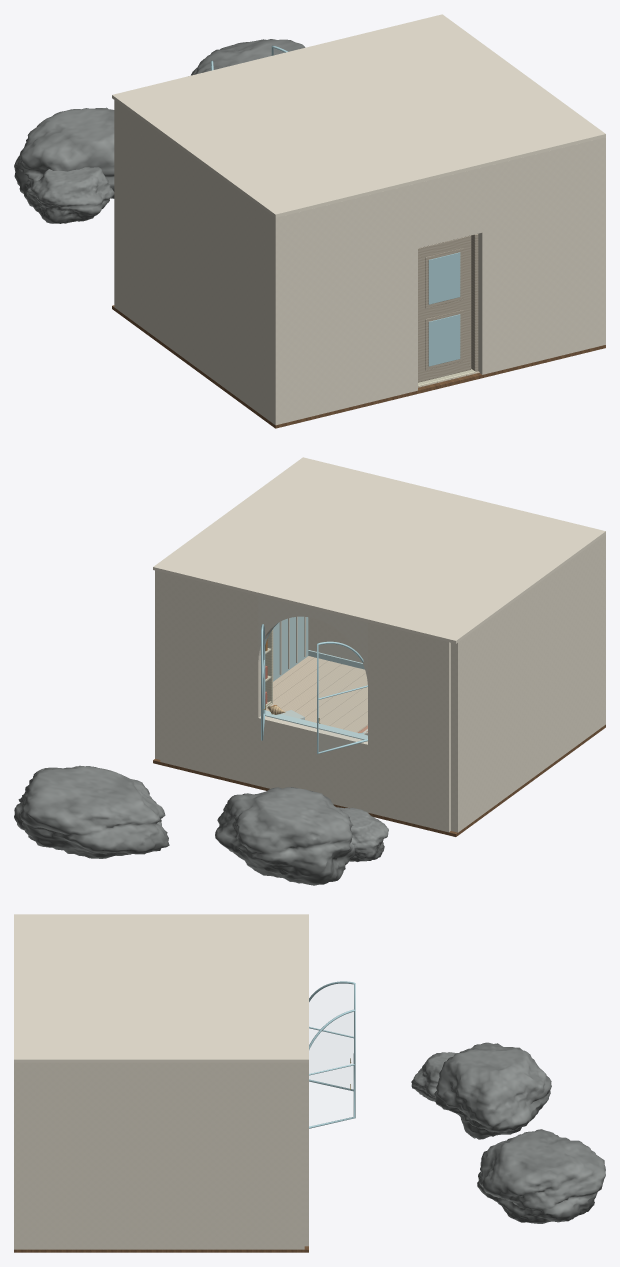
The model's file is beachfront.high.glb.
3 views of the same model, one above another, from view 1: azimuth 30°, elevation 25°; view 2: azimuth 150°, elevation 25°; view 3: azimuth 270°, elevation 25° (orthographic). The views are drawn at different scales.
Parts seen in each view (by area): view 1: Room_Ceiling, Room_Wall_L, Room_Wall_F_L, Room_Wall_F_R, Beachfront_ShoreRock_0, Room_Wall_F_Top, Beachfront_ShoreRock_2, Door_Leaf, Room_Floor, Beachfront_ShoreRock_1, Door_Field_U_Inside, Door_Field_L_Inside (+3 smaller); view 2: Room_Ceiling, Room_Wall_L, Room_Wall_B_R, Room_Wall_B_L, Beachfront_ShoreRock_1, Beachfront_ShoreRock_0, Room_Wall_B_Bot, Beachfront_Arch_Wall, Beachfront_ShoreRock_2, Woodland_Static_moss_painted_joinery, Room_Floor, Room_Wall_F_R (+8 smaller); view 3: Room_Wall_R, Room_Ceiling, Beachfront_ShoreRock_1, Beachfront_ShoreRock_0, Room_Wall_F_R, Room_Floor, Beachfront_ShoreRock_2, Room_Wall_B_R, Beachfront_Casement_Right_Sash.
Boxes of the visible parts, box(x1,y1,x2,y2) form: Room_Ceiling: box(112, 14, 605, 217); Room_Wall_L: box(114, 100, 273, 421); Room_Wall_F_L: box(271, 183, 417, 425); Room_Wall_F_R: box(478, 137, 605, 374); Beachfront_ShoreRock_0: box(14, 107, 114, 198); Room_Wall_F_Top: box(418, 167, 482, 248); Beachfront_ShoreRock_2: box(26, 167, 114, 223); Door_Leaf: box(418, 235, 471, 382); Room_Floor: box(112, 305, 605, 428); Beachfront_ShoreRock_1: box(191, 39, 305, 75); Door_Field_U_Inside: box(428, 252, 460, 304); Door_Field_L_Inside: box(428, 314, 460, 366); Room_Ceiling: box(153, 457, 605, 643); Room_Wall_L: box(451, 536, 603, 832); Room_Wall_B_R: box(160, 572, 260, 785); Room_Wall_B_L: box(368, 622, 450, 832); Beachfront_ShoreRock_1: box(14, 765, 169, 858); Beachfront_ShoreRock_0: box(215, 787, 355, 885); Room_Wall_B_Bot: box(258, 716, 367, 812); Beachfront_Arch_Wall: box(258, 596, 367, 683); Beachfront_ShoreRock_2: box(337, 807, 388, 861); Woodland_Static_moss_painted_joinery: box(273, 616, 308, 681); Room_Floor: box(153, 724, 605, 836); Room_Wall_F_R: box(308, 617, 362, 662); Room_Wall_R: box(22, 1062, 304, 1249); Room_Ceiling: box(14, 914, 308, 1062); Beachfront_ShoreRock_1: box(477, 1129, 605, 1223); Beachfront_ShoreRock_0: box(434, 1042, 551, 1139); Room_Wall_F_R: box(14, 1062, 22, 1249); Room_Floor: box(14, 1246, 308, 1252); Beachfront_ShoreRock_2: box(411, 1052, 458, 1102); Room_Wall_B_R: box(304, 1062, 308, 1246); Beachfront_Casement_Right_Sash: box(309, 1009, 355, 1128).
Bounding box in the file's own units: 5.47 × 3.25 × 9.03.
79 materials, 41 textured.
